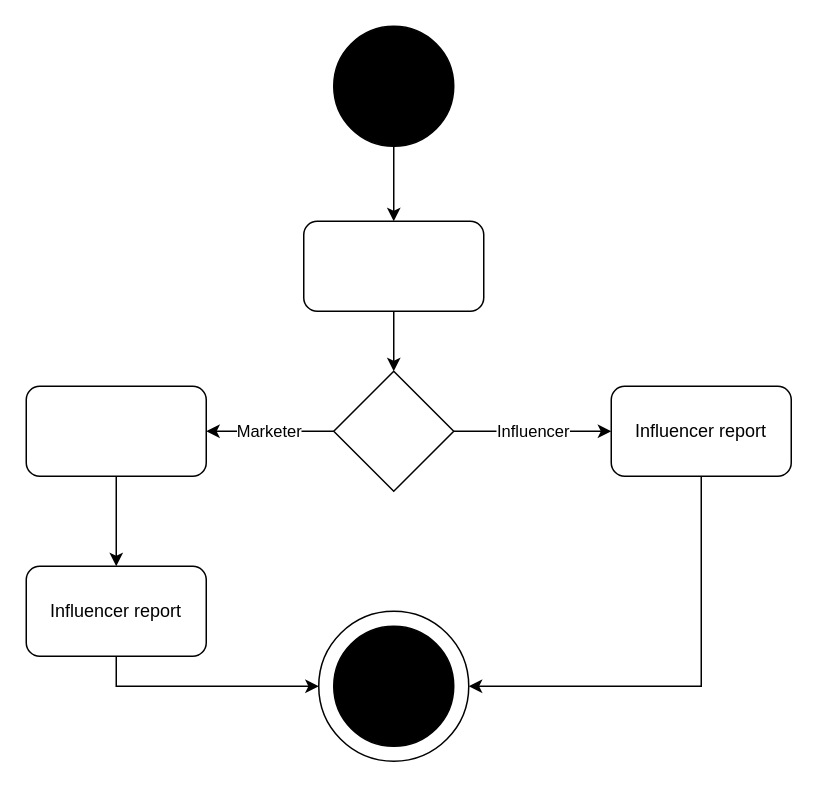
Some shapes in this 818 by 788 pixel diagram are drawn without their labels. Here are the shapes that lost their labels. From the top down, the centre of each, then its label:
At pixel 393 265: "Advertise selection".
At pixel 115 430: "Influencer selection".
